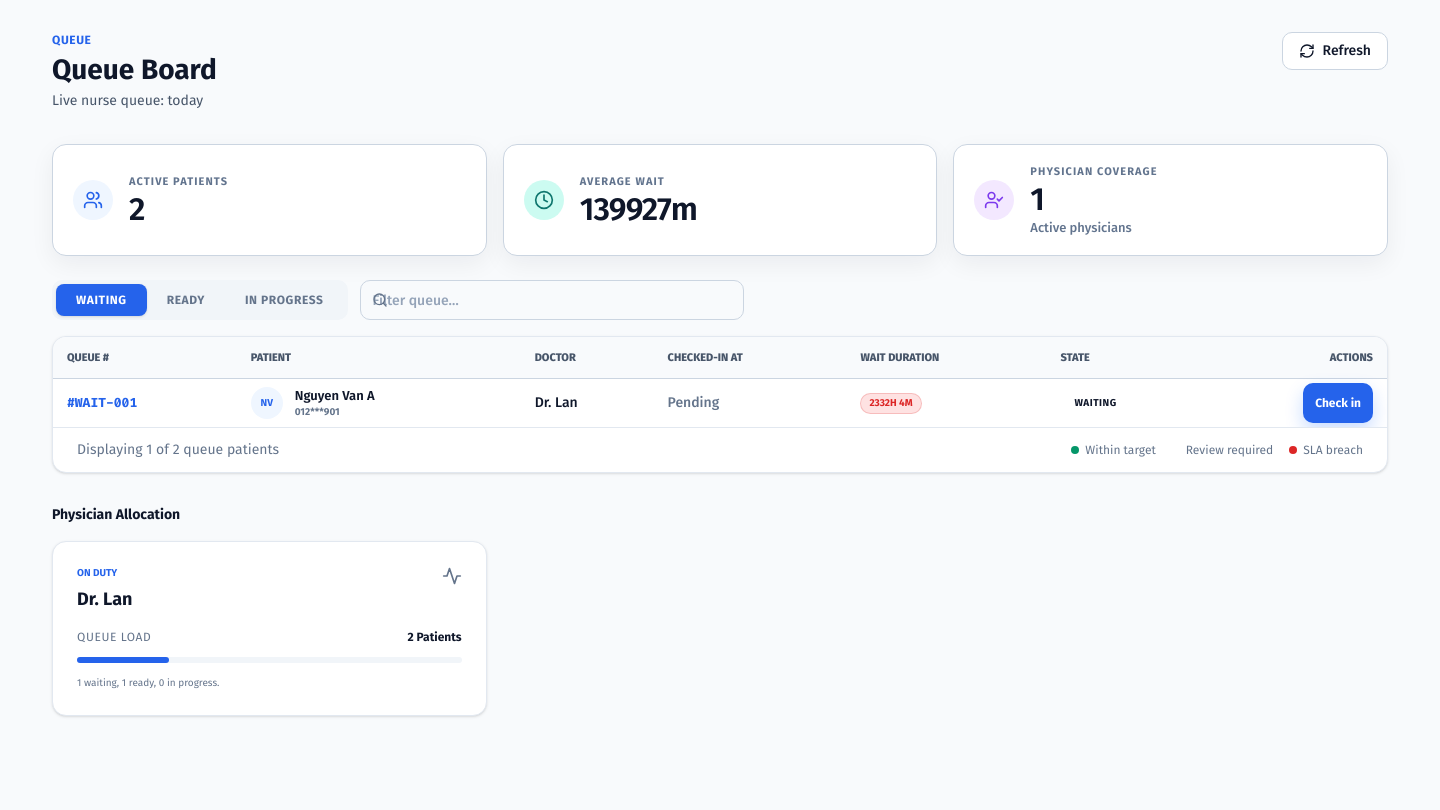
Scenario: QueueBoardPage › filters queue rows by patient and doctor text
Check: the text "Nguyen Van A" is shown, box [295,388,374,403]
In the search field labelled "Filter queue…": (552, 300) [360,280,744,320], type "tran"
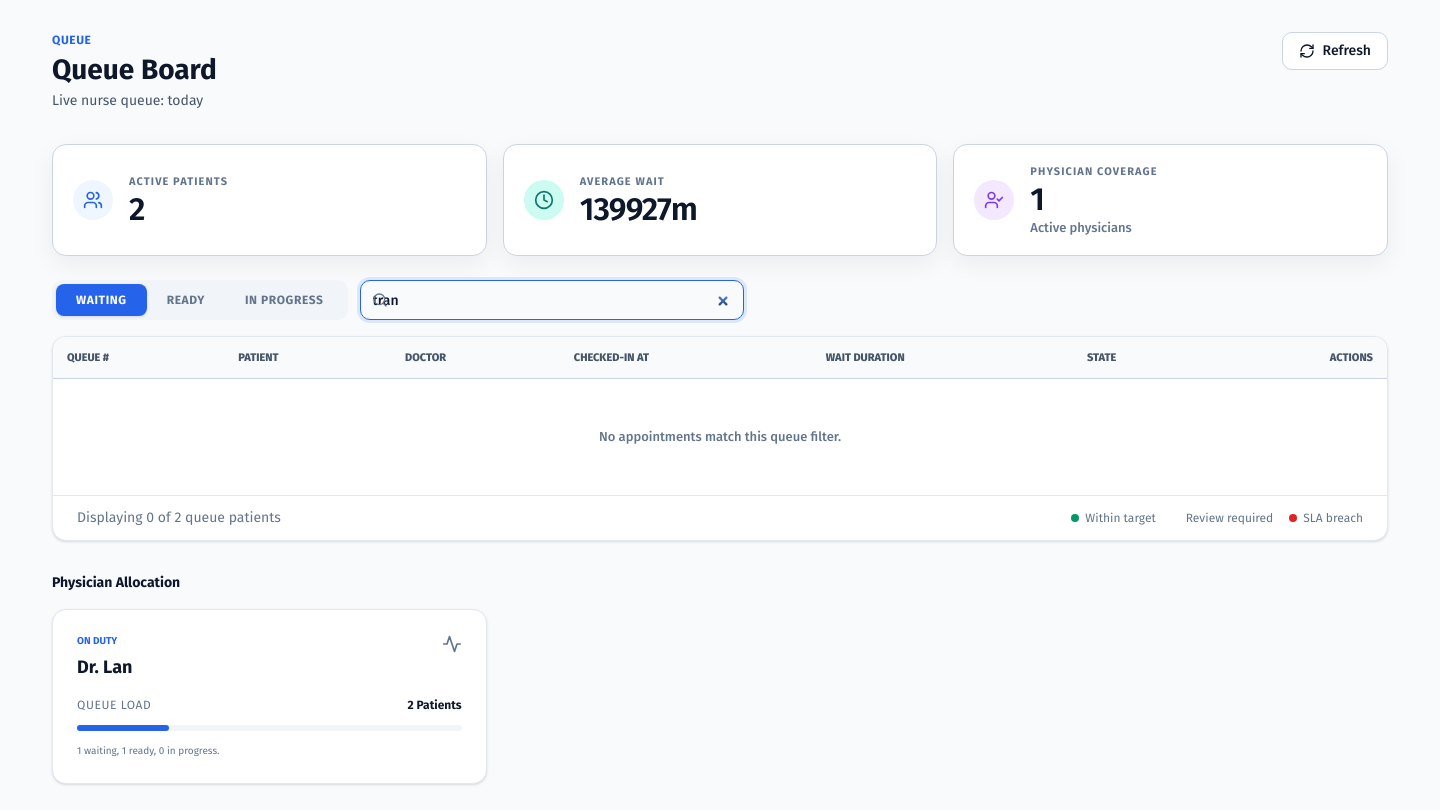
Click the button "Ready": click(186, 300) [147,284,225,316]
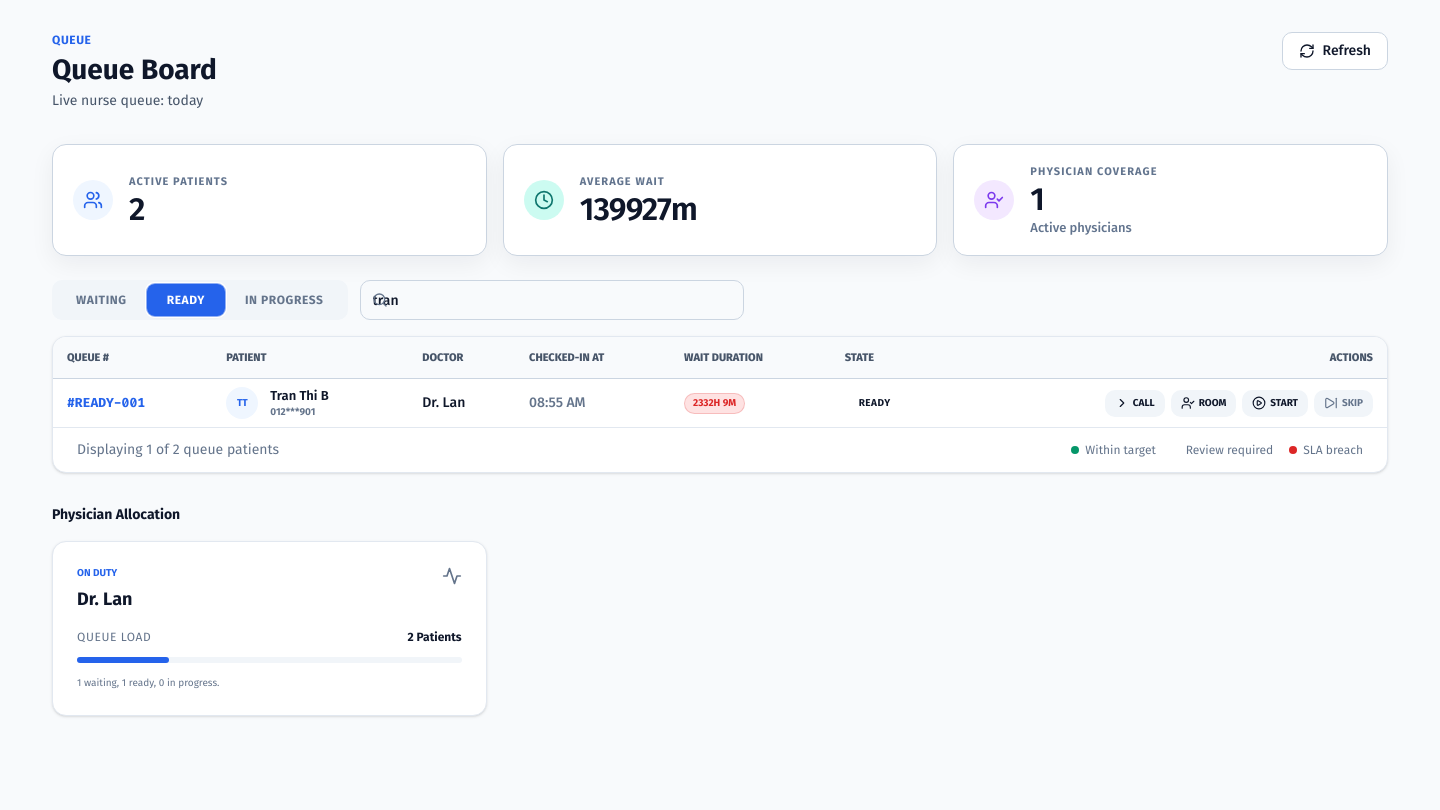
Check: the text "Nguyen Van A" is not shown
Check: the text "Tran Thi B" is shown, box [270,388,329,403]
